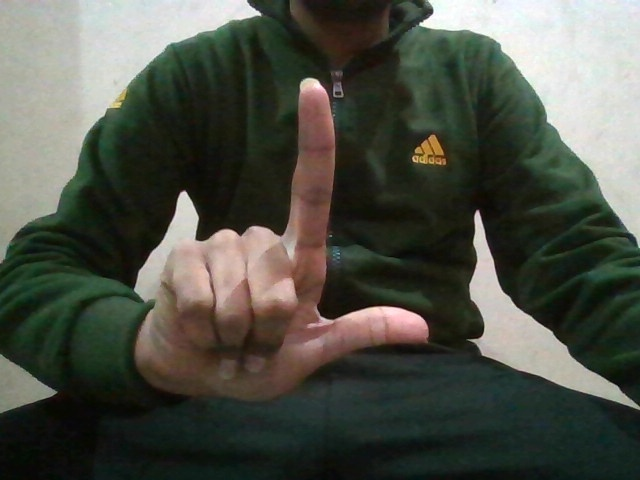L: (156, 73, 430, 395)
